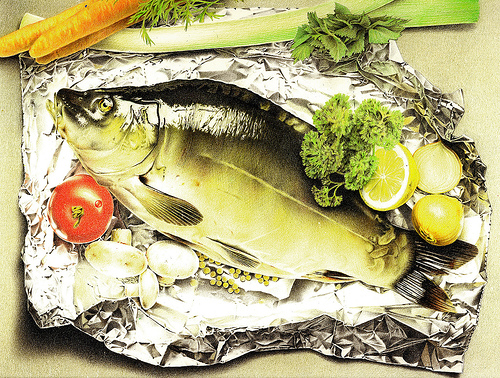fish: (46, 80, 479, 318)
